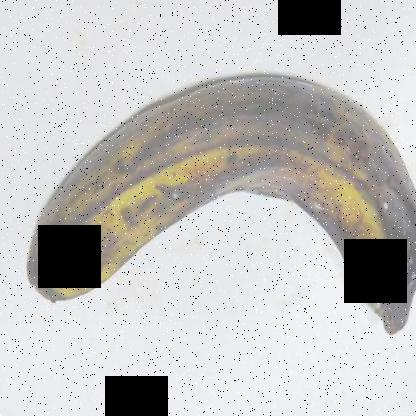rotten: (18, 67, 415, 353)
